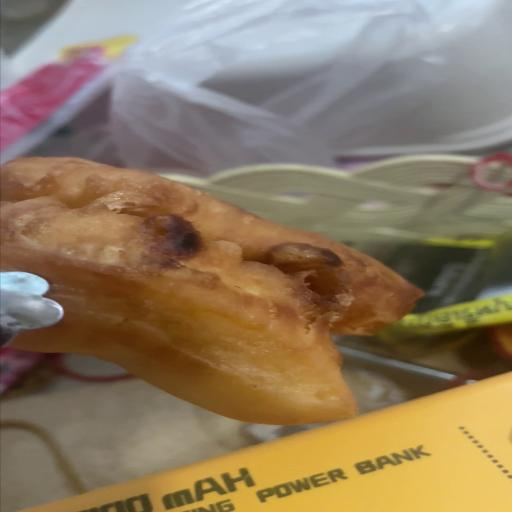street_burnt_defect: (2, 157, 422, 425)
